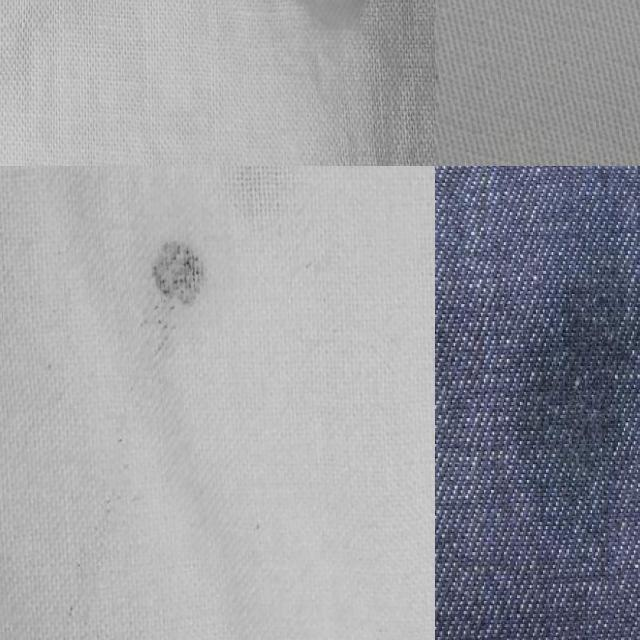Thread_other: (98, 193, 256, 365)
